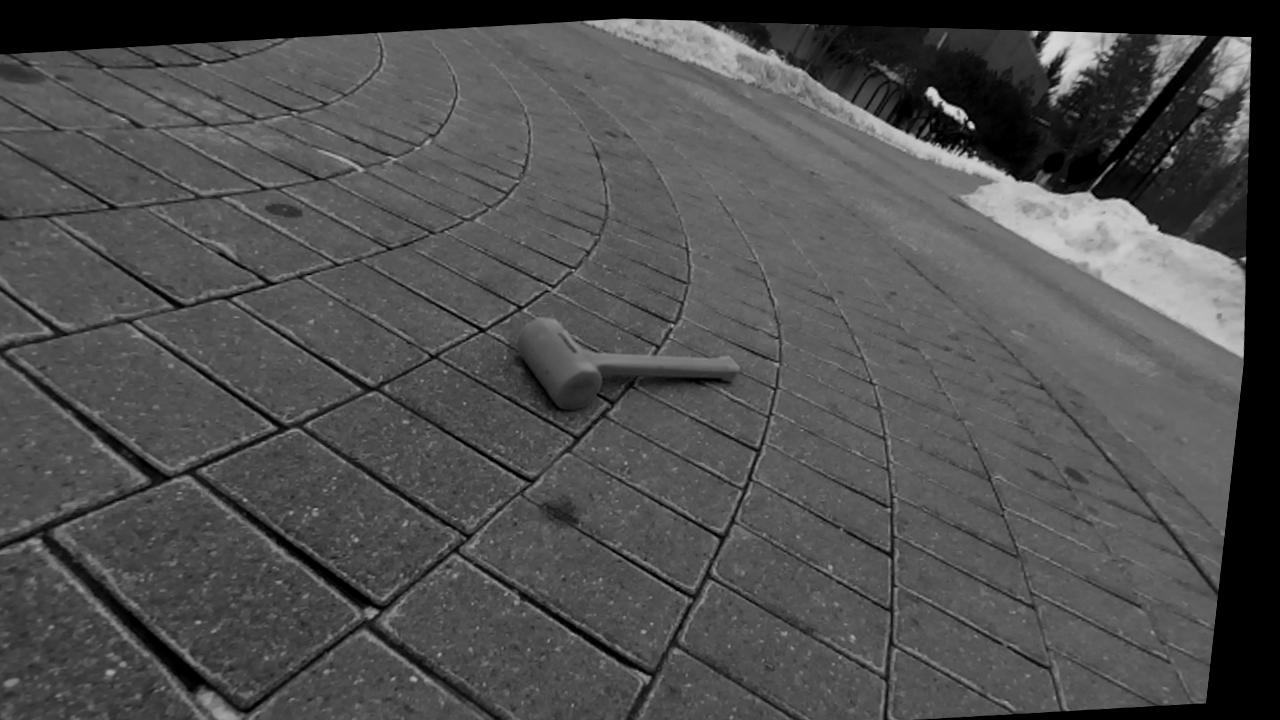mallet: (515, 317, 739, 409)
